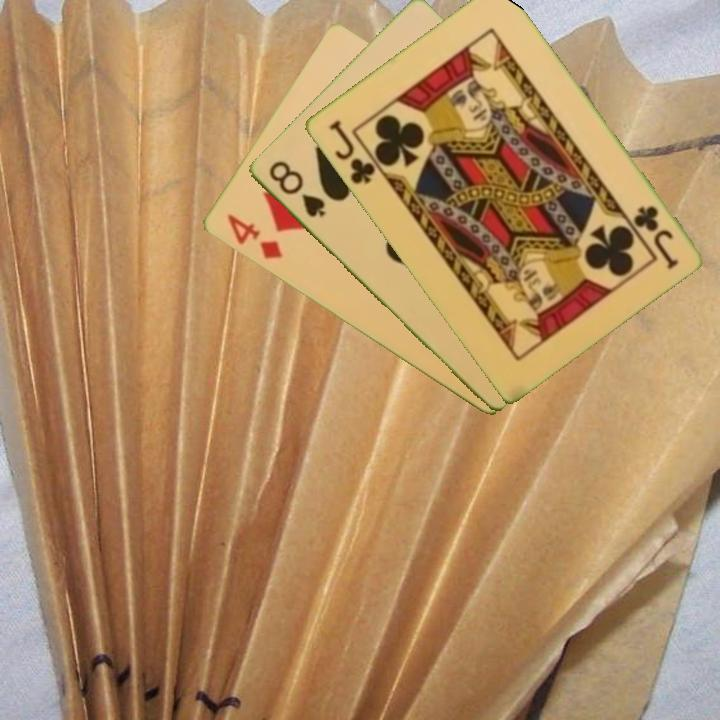4d: (223, 210, 285, 262)
8s: (264, 157, 329, 221)
Jc: (325, 116, 378, 188), (629, 202, 681, 272)
